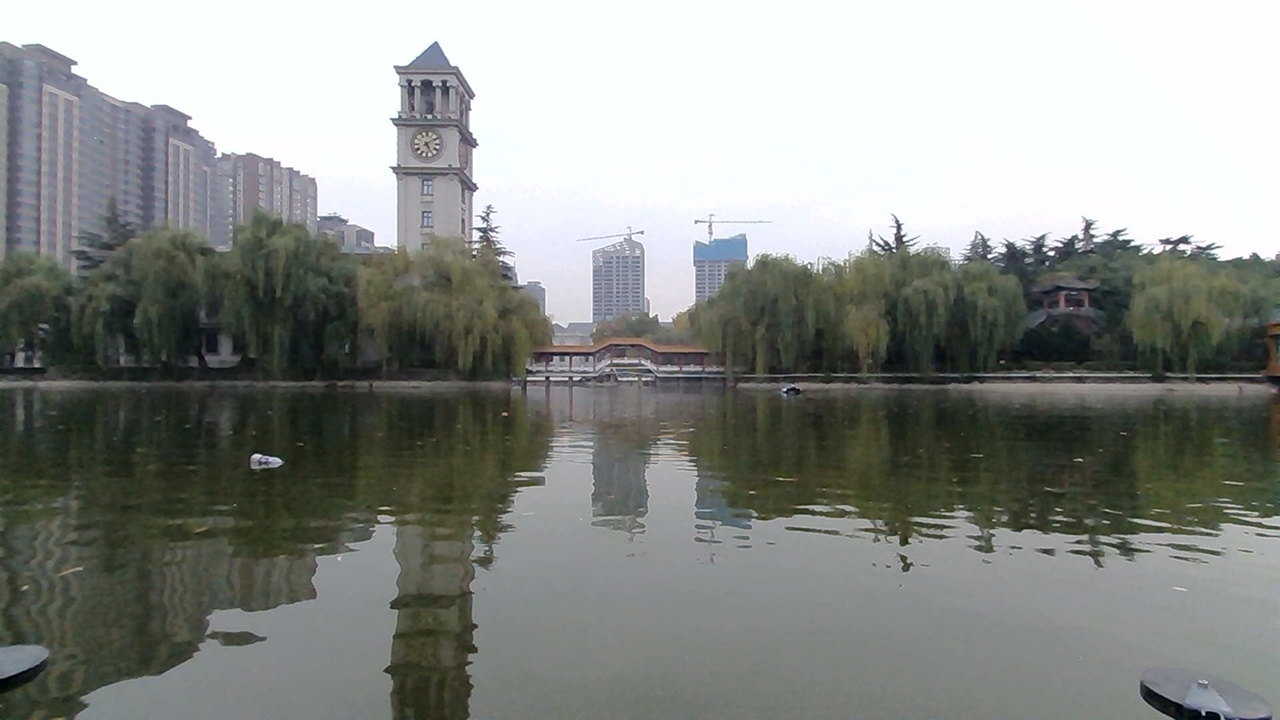bottle: (245, 442, 297, 480)
